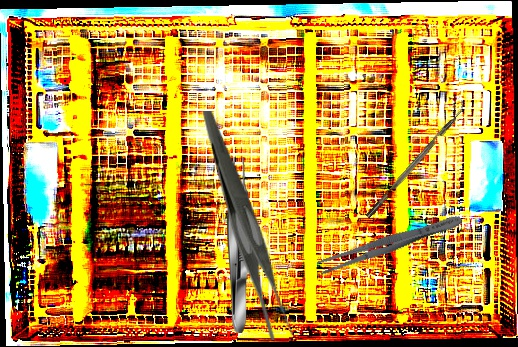Chopper: (360, 99, 470, 219)
Dressing Forceps: (202, 111, 294, 340), (315, 210, 465, 278)
Tissue Forceps: (226, 157, 251, 333)
